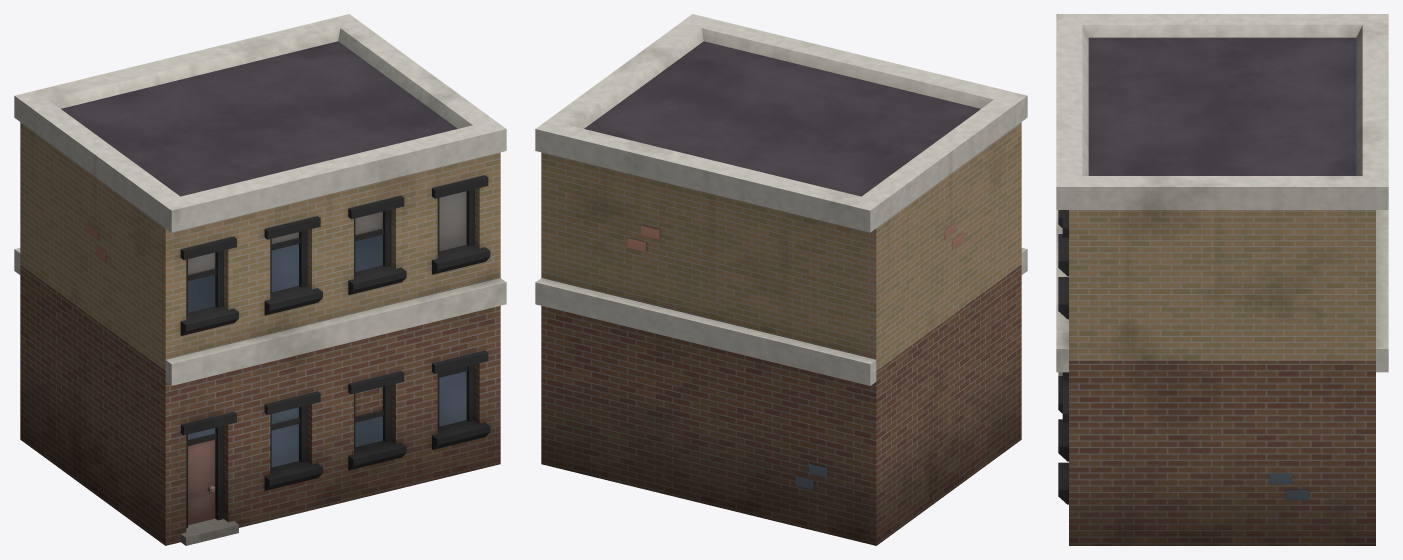
Rendered from building_B.glb.
The picture shows the model from 3 angles, left to right: view 1: azimuth 30°, elevation 25°; view 2: azimuth 150°, elevation 25°; view 3: azimuth 270°, elevation 25°; orthographic projection. The views are drawn at different scales.
Parts seen in each view (by area): view 1: building_B_withoutBase; view 2: building_B_withoutBase; view 3: building_B_withoutBase.
Boxes of the visible parts, bbox=[...] form: building_B_withoutBase: bbox=[14, 14, 506, 545]; building_B_withoutBase: bbox=[535, 14, 1027, 545]; building_B_withoutBase: bbox=[1056, 14, 1388, 545].
Size of the model in its own units: 1.61 by 1.55 by 1.3.
Materials: 2 (2 with a texture image).
